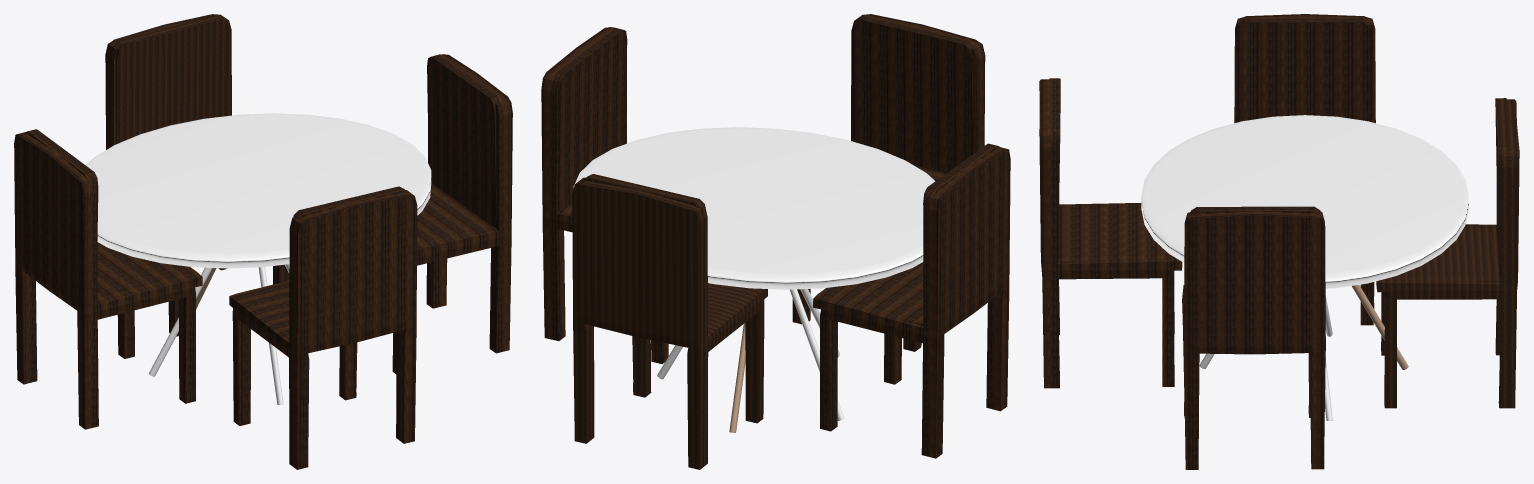
3 renders of one model, left to right at view 1: azimuth 30°, elevation 25°; view 2: azimuth 150°, elevation 25°; view 3: azimuth 270°, elevation 25°, orthographic. The views are drawn at different scales.
Parts seen in each view (by area): view 1: Cylinder_0, Plane.001_10, Plane_8, Plane.002_11, Plane.003_12, Cylinder.002_2, Cylinder.004_4; view 2: Cylinder_0, Plane.003_12, Plane_8, Plane.001_10, Plane.002_11, Cylinder.005_5, Cylinder.002_2; view 3: Cylinder_0, Plane.002_11, Plane_8, Plane.001_10, Plane.003_12, Cylinder.005_5.
Boxes of the visible parts, x1=… form: Cylinder_0: x1=85, y1=113, x2=431, y2=268; Plane.001_10: x1=229, y1=186, x2=417, y2=469; Plane_8: x1=14, y1=129, x2=202, y2=429; Plane.002_11: x1=392, y1=54, x2=512, y2=373; Plane.003_12: x1=105, y1=14, x2=289, y2=336; Cylinder.002_2: x1=149, y1=267, x2=212, y2=376; Cylinder.004_4: x1=258, y1=267, x2=283, y2=404; Cylinder_0: x1=573, y1=127, x2=935, y2=289; Plane.003_12: x1=572, y1=174, x2=767, y2=469; Plane_8: x1=813, y1=143, x2=1010, y2=458; Plane.001_10: x1=792, y1=14, x2=985, y2=351; Plane.002_11: x1=541, y1=27, x2=668, y2=363; Cylinder.005_5: x1=729, y1=323, x2=745, y2=432; Cylinder.002_2: x1=789, y1=289, x2=844, y2=420; Cylinder_0: x1=1141, y1=115, x2=1468, y2=288; Plane.002_11: x1=1182, y1=206, x2=1325, y2=469; Plane_8: x1=1234, y1=14, x2=1375, y2=325; Plane.001_10: x1=1039, y1=78, x2=1182, y2=388; Plane.003_12: x1=1376, y1=98, x2=1519, y2=408; Cylinder.005_5: x1=1351, y1=285, x2=1408, y2=369.
Bounding box in the file's own units: 8.43 × 5.15 × 8.45.
7 materials, 2 textured.
